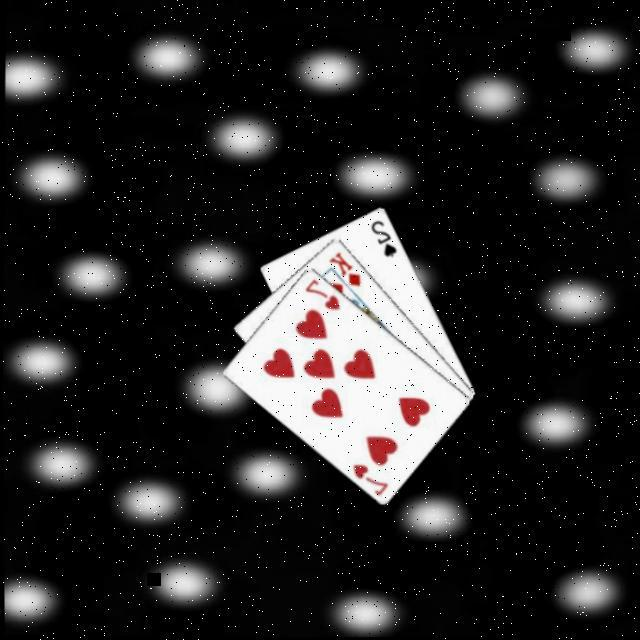2S: (368, 218, 401, 260)
7H: (302, 275, 344, 314), (350, 461, 392, 500)
KD: (327, 249, 366, 290)
